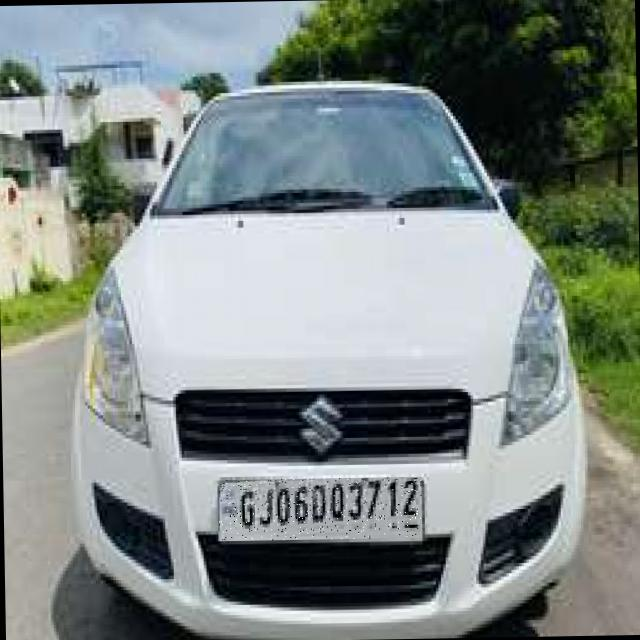Plate: (218, 477, 423, 542)
